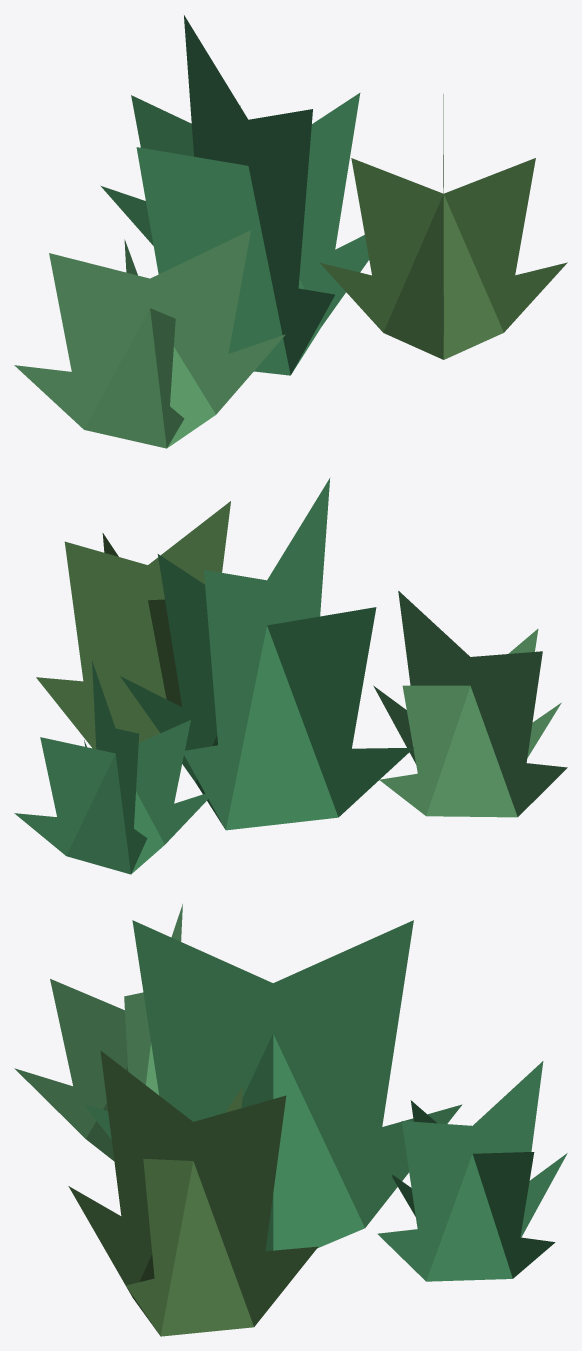
Rendered from veg_tropical_understory.glb.
3 renders of one model, top to bottom at view 1: azimuth 30°, elevation 25°; view 2: azimuth 150°, elevation 25°; view 3: azimuth 270°, elevation 25°, orthographic. The views are drawn at different scales.
Parts seen in each view (by area): view 1: clump_0, clump_1, clump_2, clump_3; view 2: clump_0, clump_1, clump_2, clump_3; view 3: clump_0, clump_2, clump_3, clump_1.
Boxes of the visible parts, x1,y1,x2,y2 form: clump_0: [136, 15, 369, 375]; clump_1: [14, 230, 285, 448]; clump_2: [319, 94, 567, 359]; clump_3: [100, 95, 240, 245]; clump_0: [120, 477, 413, 830]; clump_1: [373, 591, 567, 817]; clump_2: [36, 501, 230, 748]; clump_3: [14, 661, 216, 874]; clump_0: [84, 920, 462, 1251]; clump_2: [68, 1050, 317, 1336]; clump_3: [377, 1061, 567, 1281]; clump_1: [14, 904, 182, 1160].
Bounding box in the file's own units: 0.9897 × 0.5118 × 0.8336.
